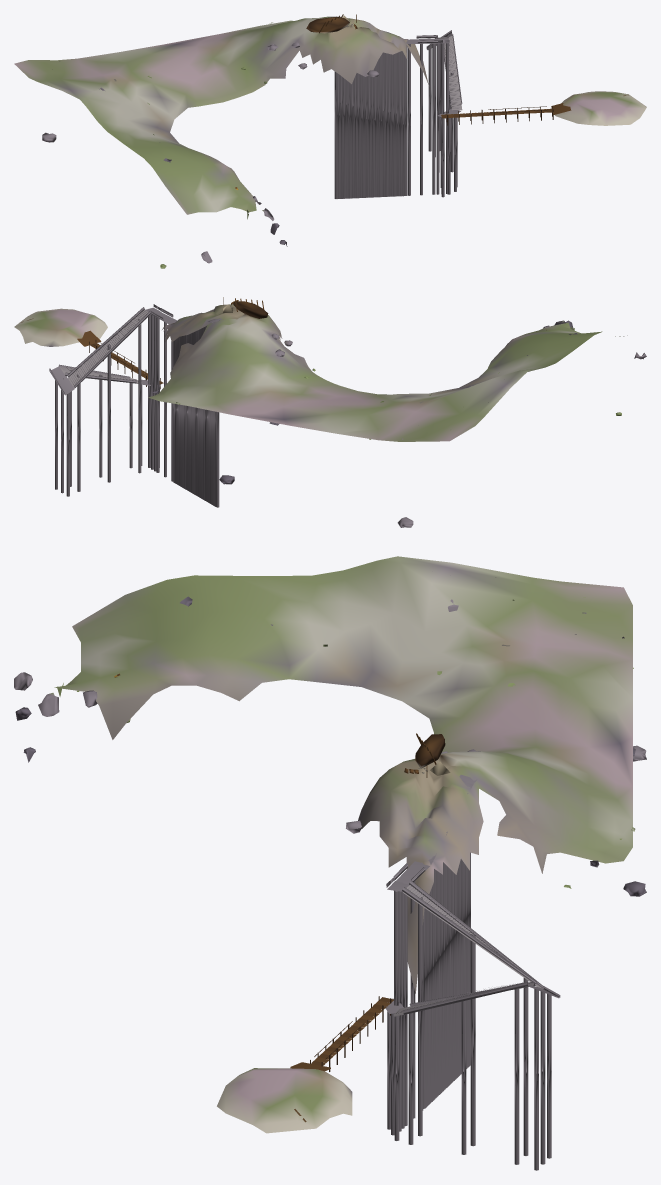
The model's file is coast_isl_beached_wreck_lod1.glb.
3 renders of one model, top to bottom at view 1: azimuth 30°, elevation 25°; view 2: azimuth 150°, elevation 25°; view 3: azimuth 270°, elevation 25°, orthographic. The views are drawn at different scales.
Parts seen in each view (by area): view 1: coast_isl_beached_wreck_lod1; view 2: coast_isl_beached_wreck_lod1; view 3: coast_isl_beached_wreck_lod1.
Part boxes in pixels (x1,y1,x2,y2): coast_isl_beached_wreck_lod1: [14, 14, 646, 268]; coast_isl_beached_wreck_lod1: [14, 297, 646, 527]; coast_isl_beached_wreck_lod1: [14, 556, 646, 1170].
Bounding box in the file's own units: 216 × 75.66 × 140.
